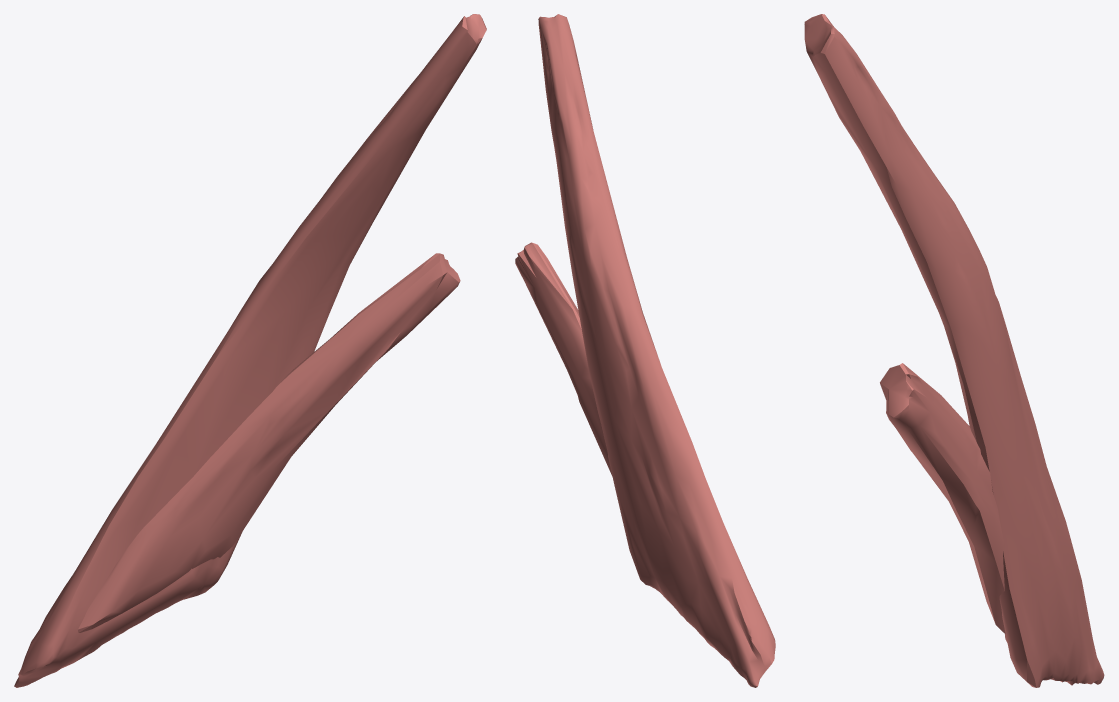
The model's file is fma82376_mm4007m.glb.
3 renders of one model, left to right at view 1: azimuth 30°, elevation 25°; view 2: azimuth 150°, elevation 25°; view 3: azimuth 270°, elevation 25°, orthographic. The views are drawn at different scales.
Visible parts, largest first — view 1: FMA82376_MM4007M; view 2: FMA82376_MM4007M; view 3: FMA82376_MM4007M.
Boxes of the visible parts, x1=… form: FMA82376_MM4007M: x1=14, y1=14, x2=486, y2=687; FMA82376_MM4007M: x1=515, y1=14, x2=775, y2=687; FMA82376_MM4007M: x1=804, y1=14, x2=1104, y2=687.
Bounding box in the file's own units: 0.0365 × 0.0613 × 0.0187.
